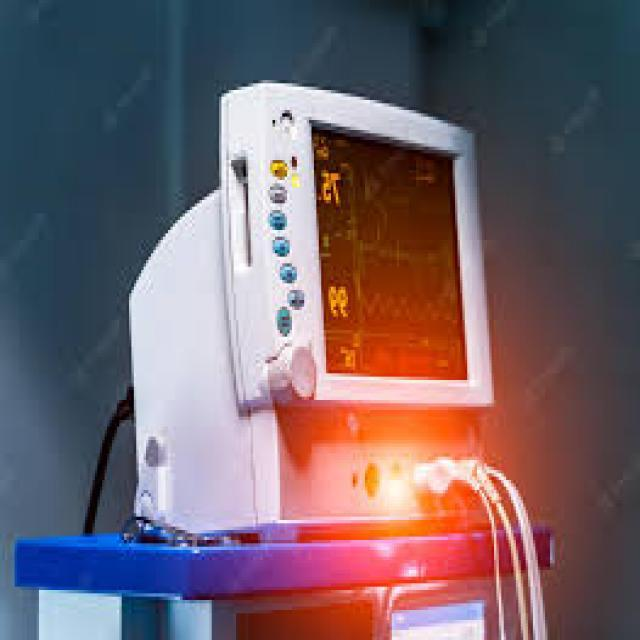cardiac_monitor: (227, 80, 506, 471)
